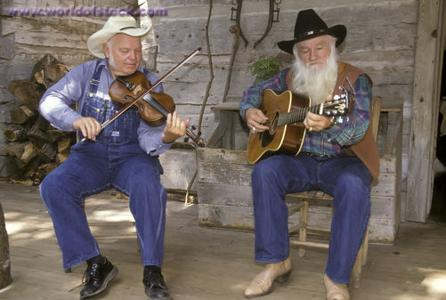person: (239, 9, 379, 299)
